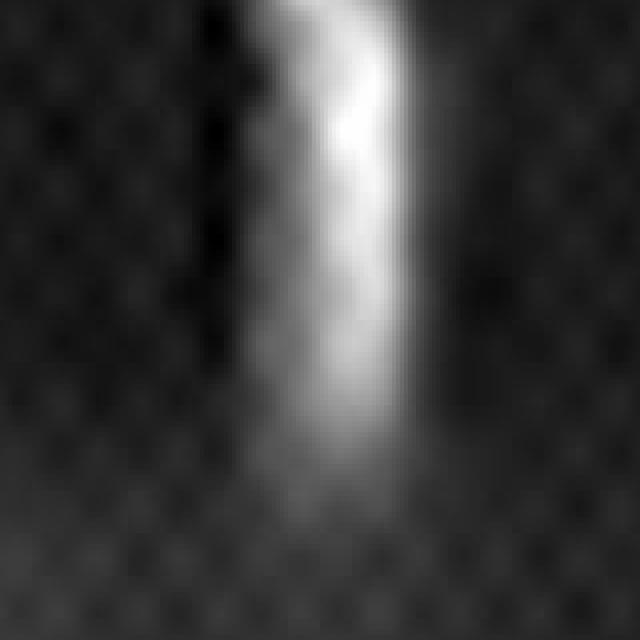person: (225, 1, 429, 529)
